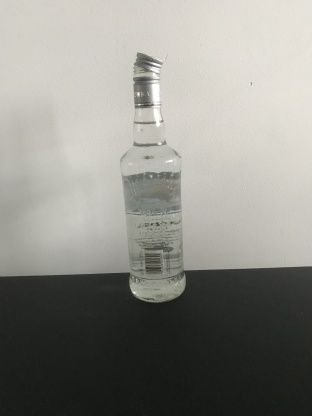nakretka: (131, 50, 164, 109)
